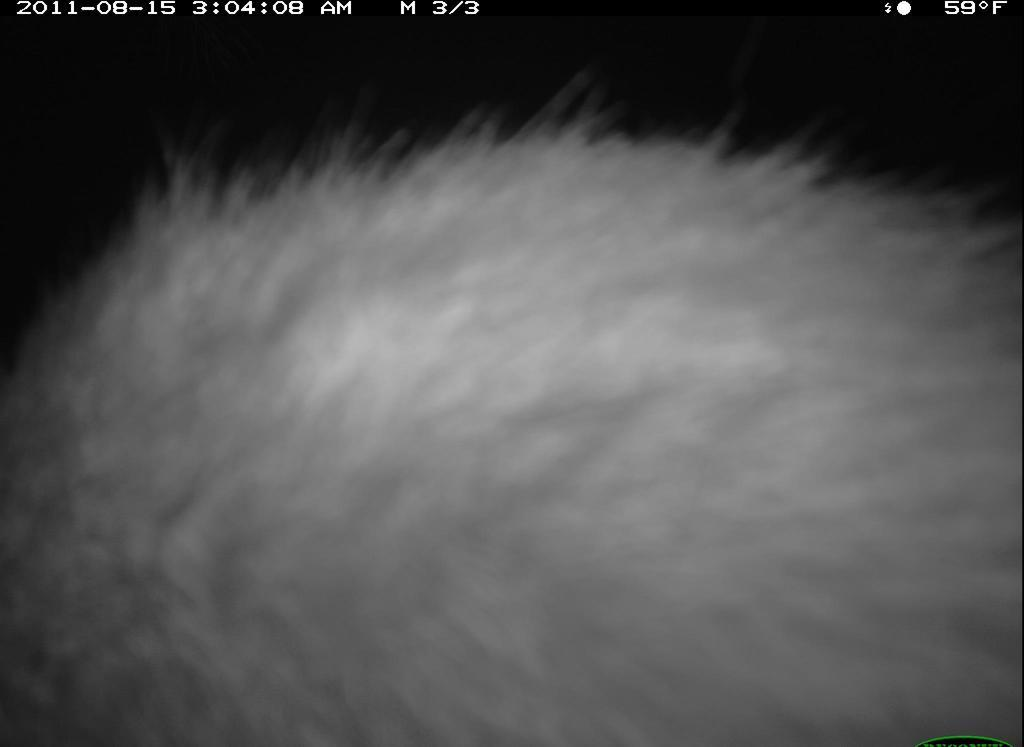raccoon: (2, 103, 1021, 747)
